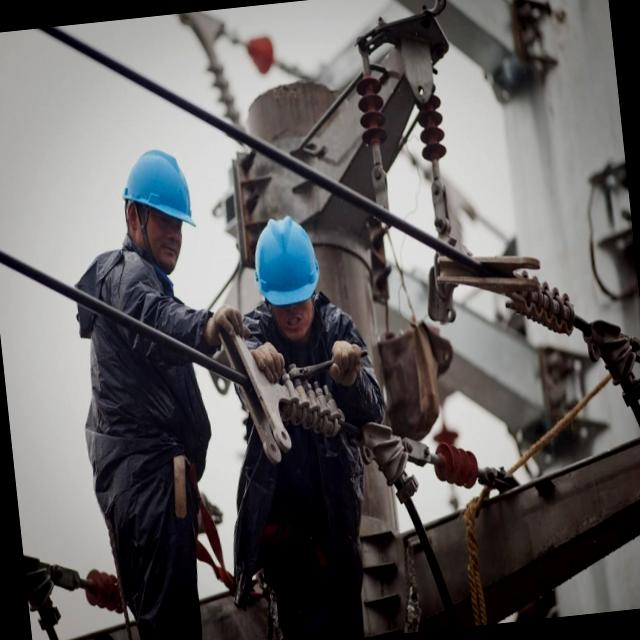helmet: (116, 138, 200, 244), (251, 210, 321, 313)
no-vest: (77, 247, 202, 465)
